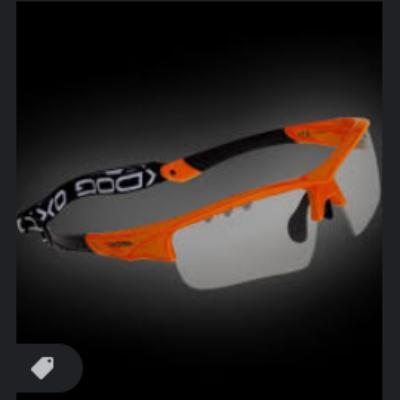glasses: (23, 112, 385, 292)
